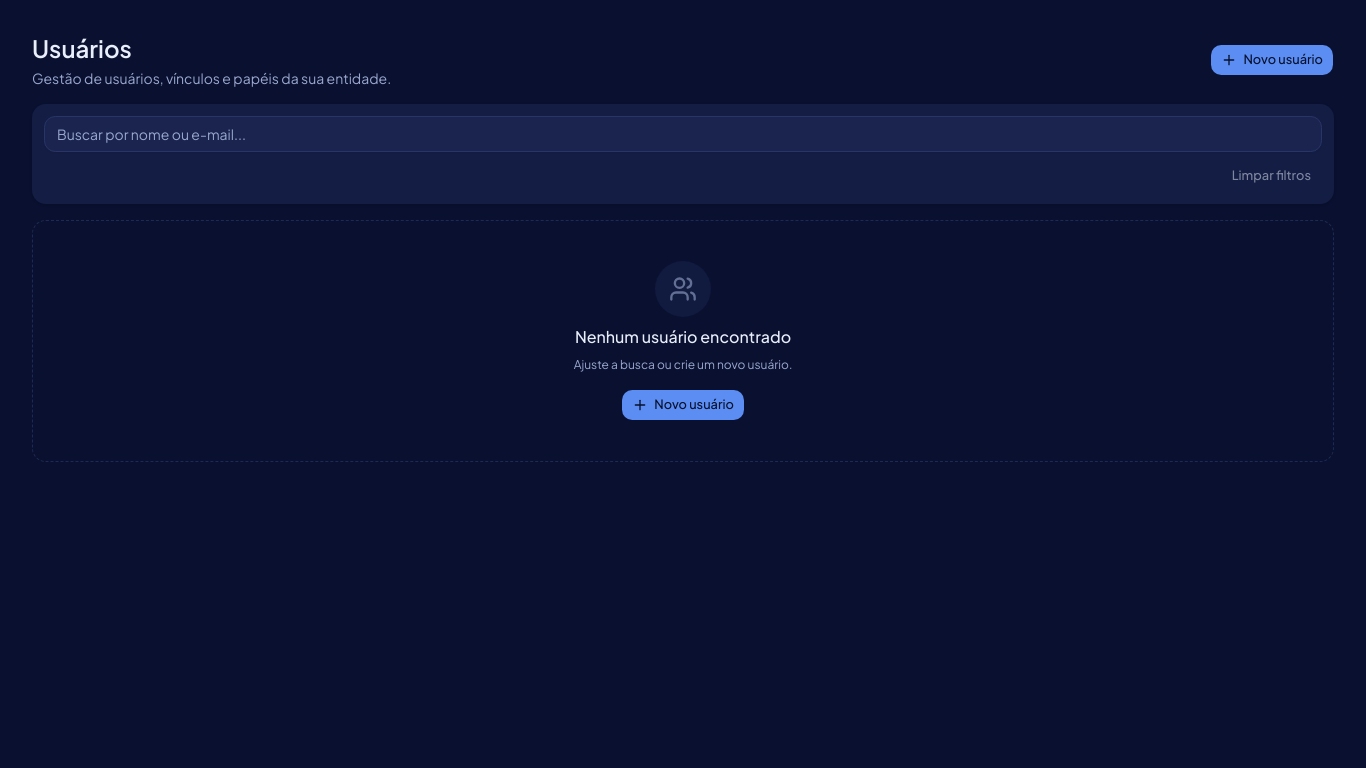
Scenario: UsuariosPage — seletor de papel x papéis restritos › admin_plataforma (com admin.gerenciar): o papel restrito continua disponível
The image size is (1366, 768).
Expected: the text "Nenhum usuário encontrado" is shown, [575,325,791,349]
What coordinates should you click on to do the following:
click the 1st button "Novo usuário"
I would click on:
 (1272, 60)
Its box is [1210,44,1334,76].
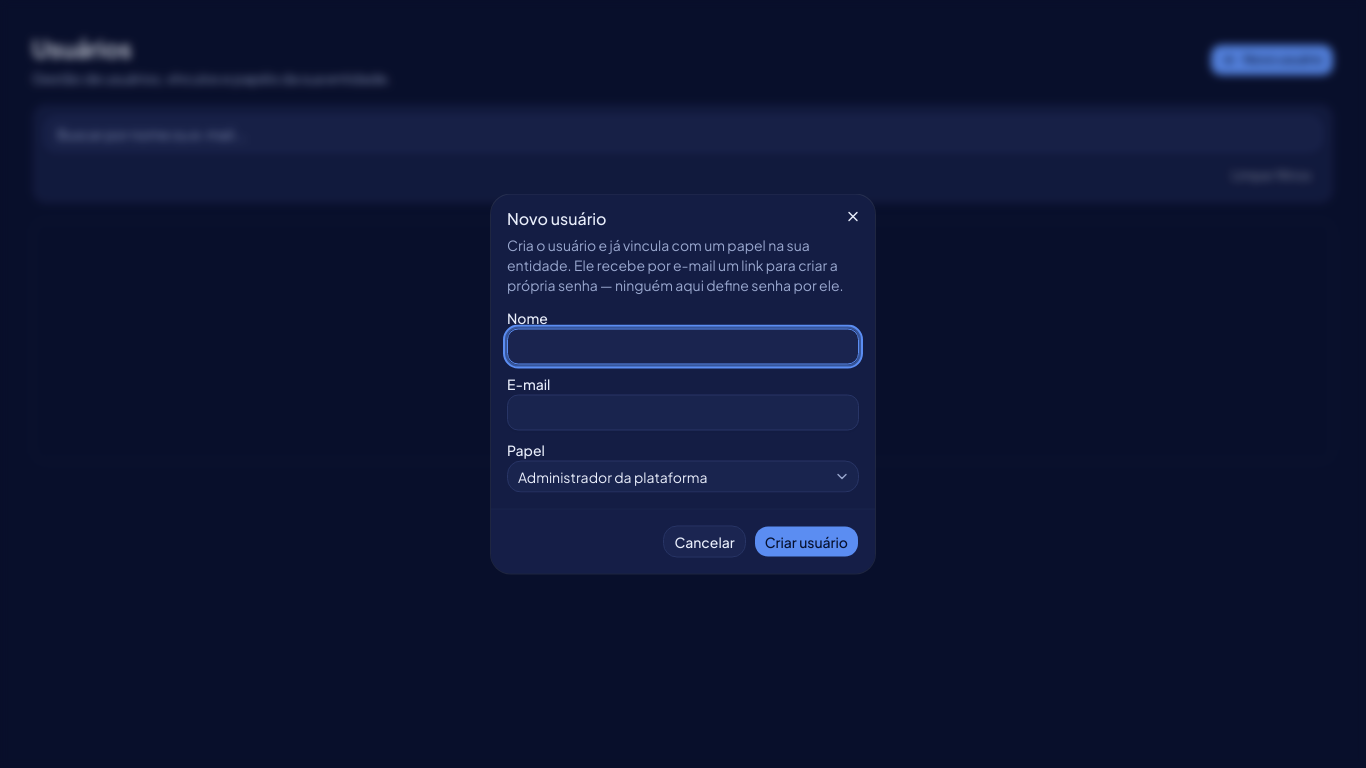
Expected: the text "Administrador da plataforma" is shown, [518,468,707,486]
